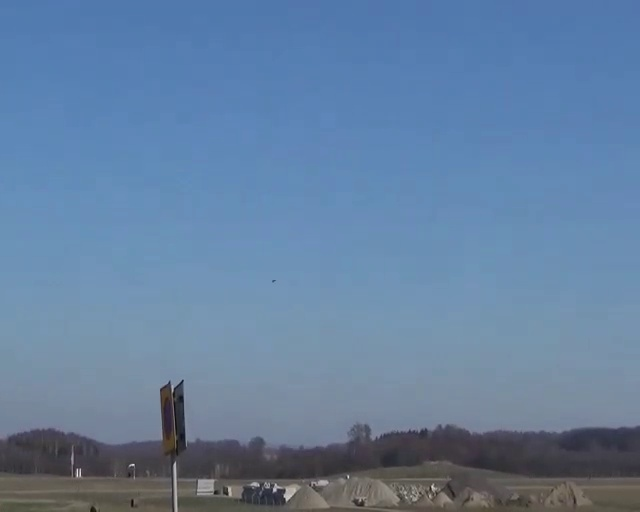BIRD: (269, 276, 279, 286)
